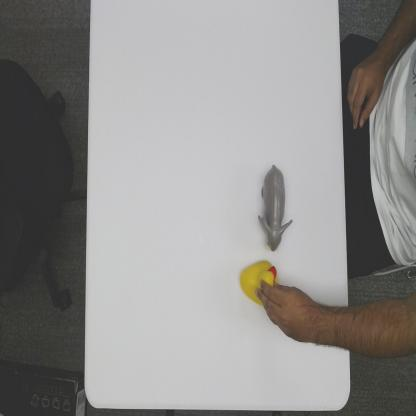Arm: (316, 304, 351, 350)
Duck: (239, 260, 282, 306)
Elephant: (258, 163, 294, 252)
Hand: (255, 275, 313, 347)
